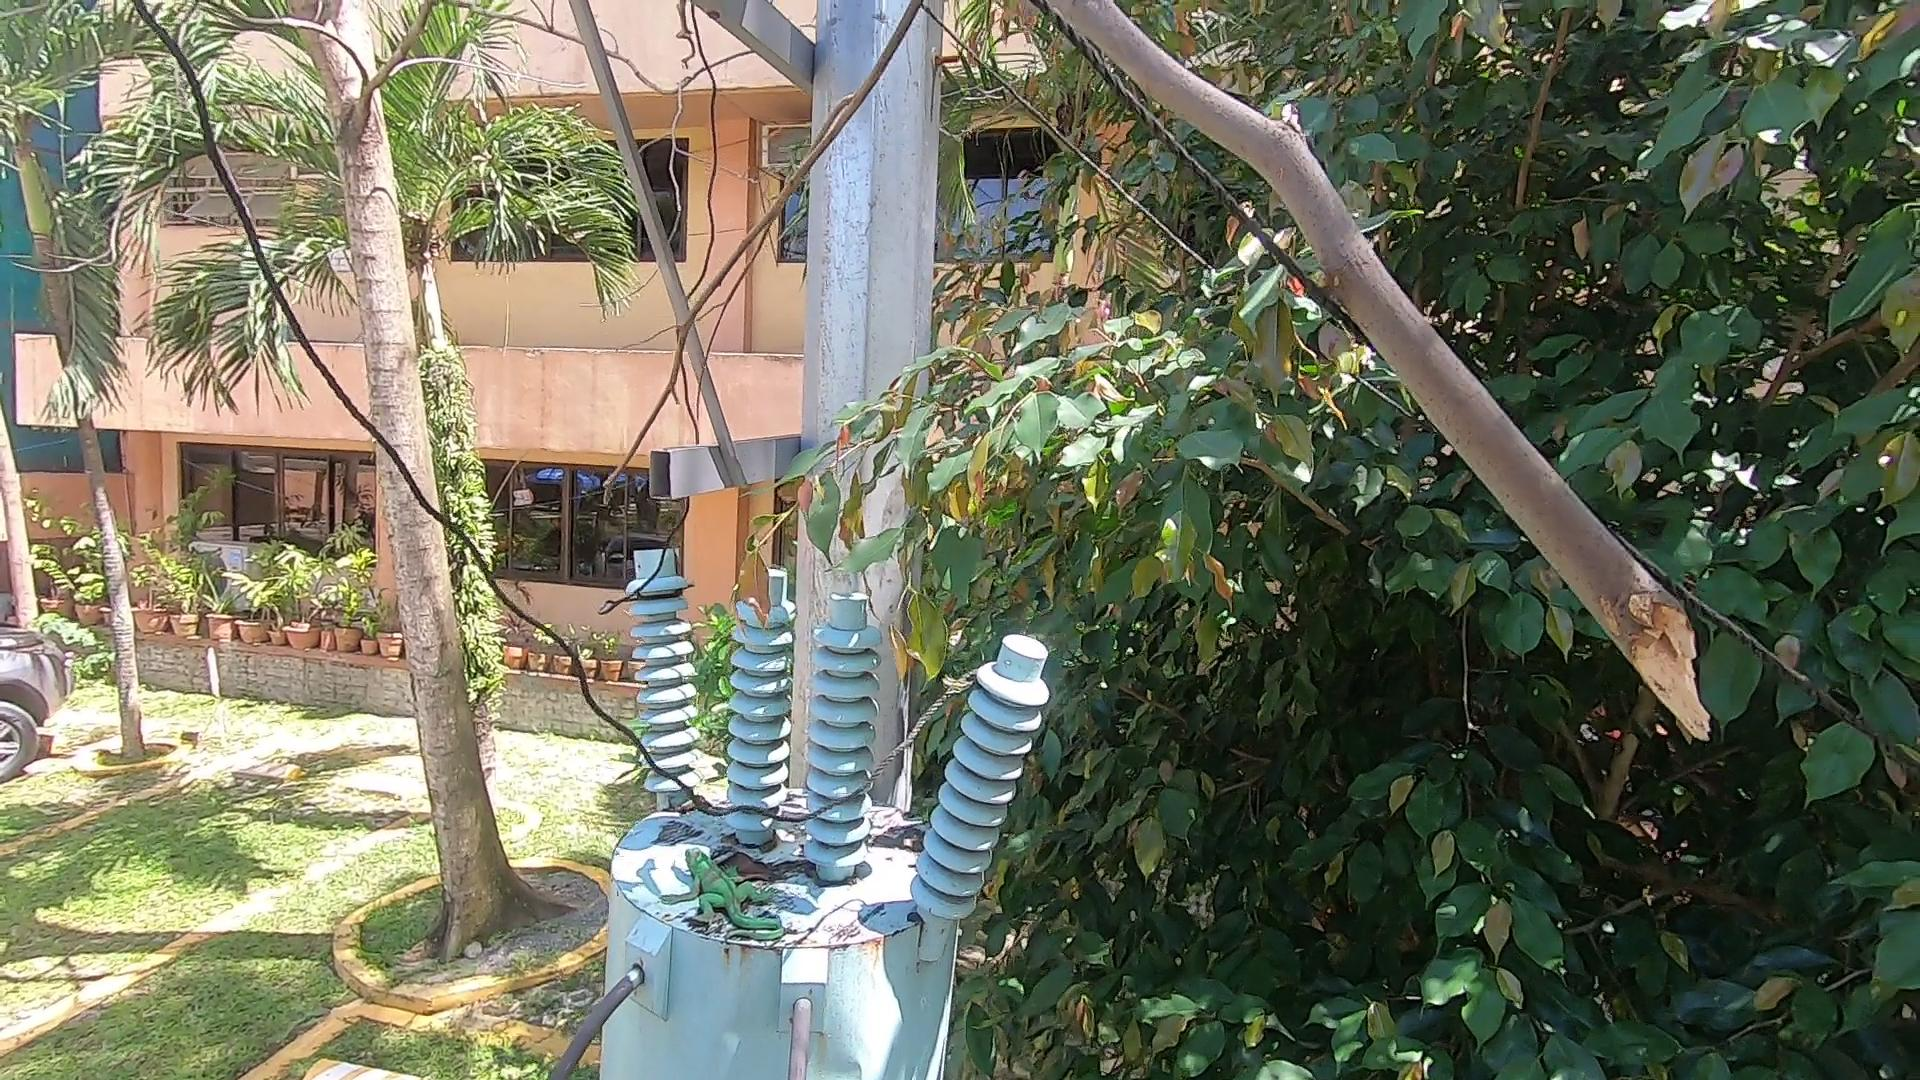branch with leaves: (712, 322, 1000, 727)
leaf: (702, 837, 810, 899), (864, 828, 934, 857), (673, 785, 720, 816)
tree branch: (1004, 7, 1716, 738)
